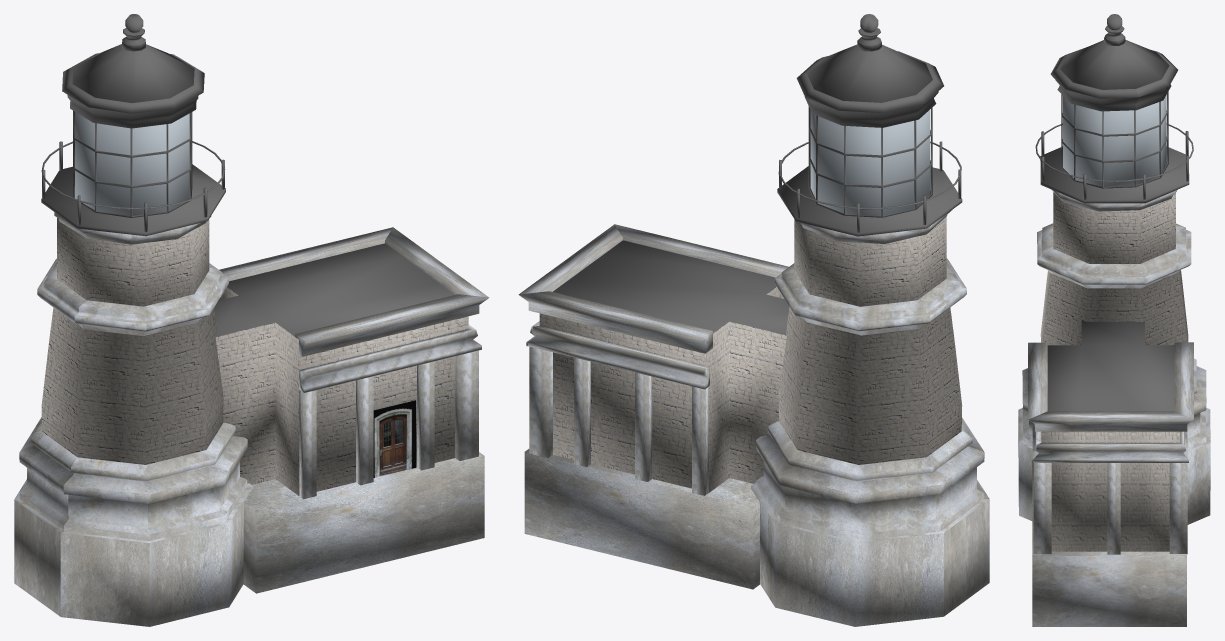
The model's file is lighthouse.glb.
The picture shows the model from 3 angles, left to right: view 1: azimuth 30°, elevation 25°; view 2: azimuth 150°, elevation 25°; view 3: azimuth 270°, elevation 25°; orthographic projection. The views are drawn at different scales.
Parts seen in each view (by area): view 1: LOD0; view 2: LOD0; view 3: LOD0.
Boxes of the visible parts, bbox=[...] form: LOD0: bbox=[14, 14, 489, 626]; LOD0: bbox=[518, 14, 989, 626]; LOD0: bbox=[1018, 14, 1210, 626].
Size of what is drawn, in the model's own units: 14.65 by 19.55 by 7.02.
5 materials, 3 textured.
